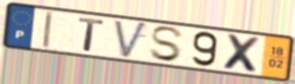9: (191, 31, 220, 68)
I: (41, 10, 55, 50)
S: (148, 25, 187, 64)
T: (77, 16, 106, 53)
V: (112, 18, 150, 61)
X: (221, 32, 264, 76)
